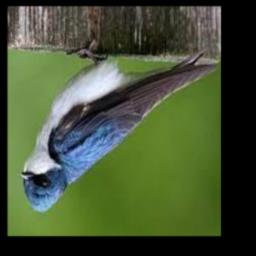Swallow: (20, 46, 218, 215)
